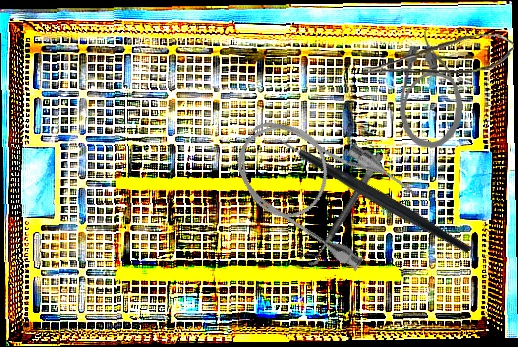Cannula: (217, 92, 423, 278), (397, 26, 467, 151)
Chopper: (259, 82, 473, 311)
Fixation Ring: (298, 146, 385, 269)
Micro Scissor: (361, 30, 516, 80)
